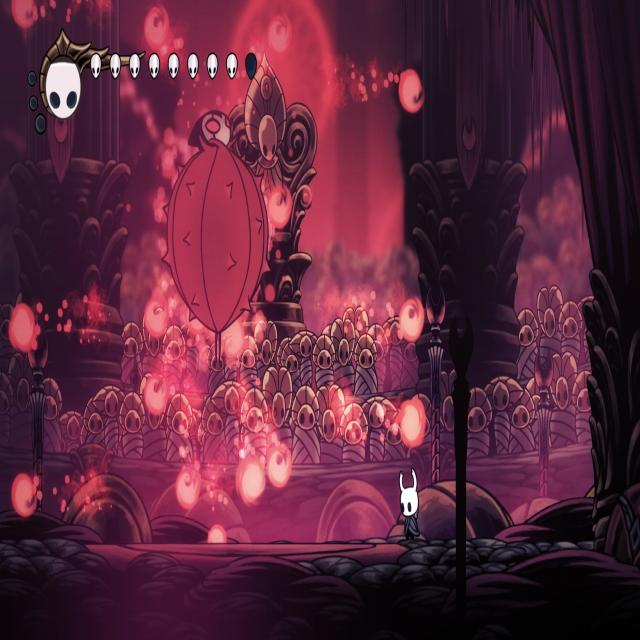Player: (398, 457, 427, 541)
Pufferfish: (156, 102, 270, 361)
Tiny Fireballs: (8, 303, 36, 353), (398, 398, 425, 448), (237, 459, 266, 505), (145, 0, 169, 52), (12, 474, 38, 520), (222, 316, 248, 361), (398, 71, 423, 116), (398, 298, 423, 342), (268, 444, 292, 488), (144, 373, 168, 416), (176, 467, 200, 510), (144, 297, 168, 339), (269, 13, 291, 53), (11, 0, 36, 31), (208, 526, 226, 542)
